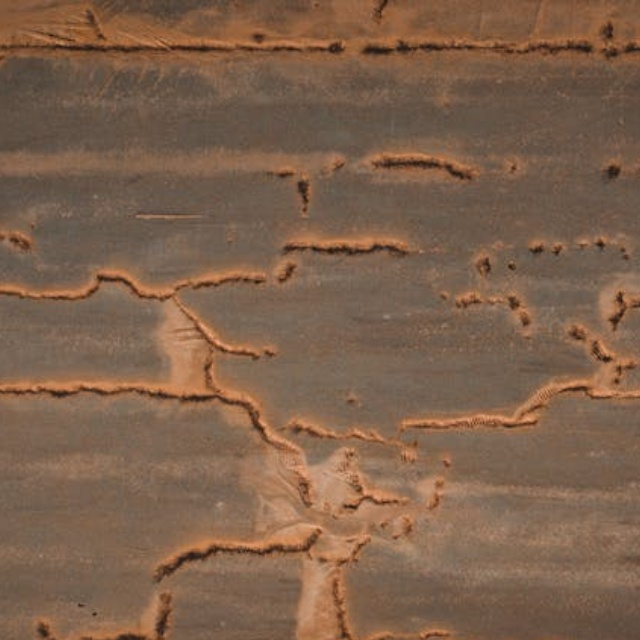细微裂纹: (0, 156, 625, 345), (0, 0, 640, 137), (289, 311, 640, 545), (0, 333, 428, 462)
